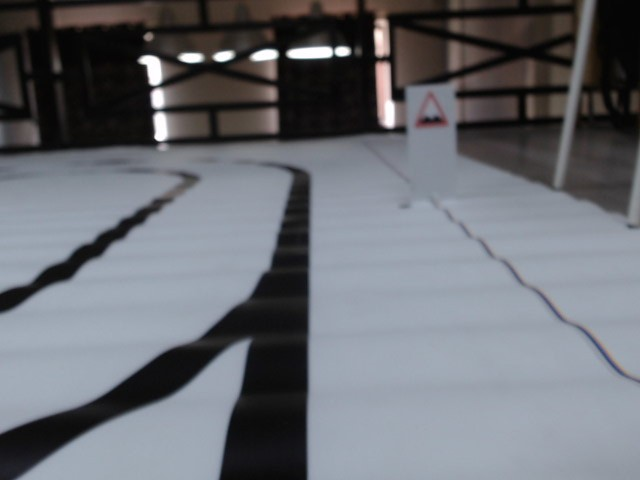Nerov: (413, 90, 453, 131)
